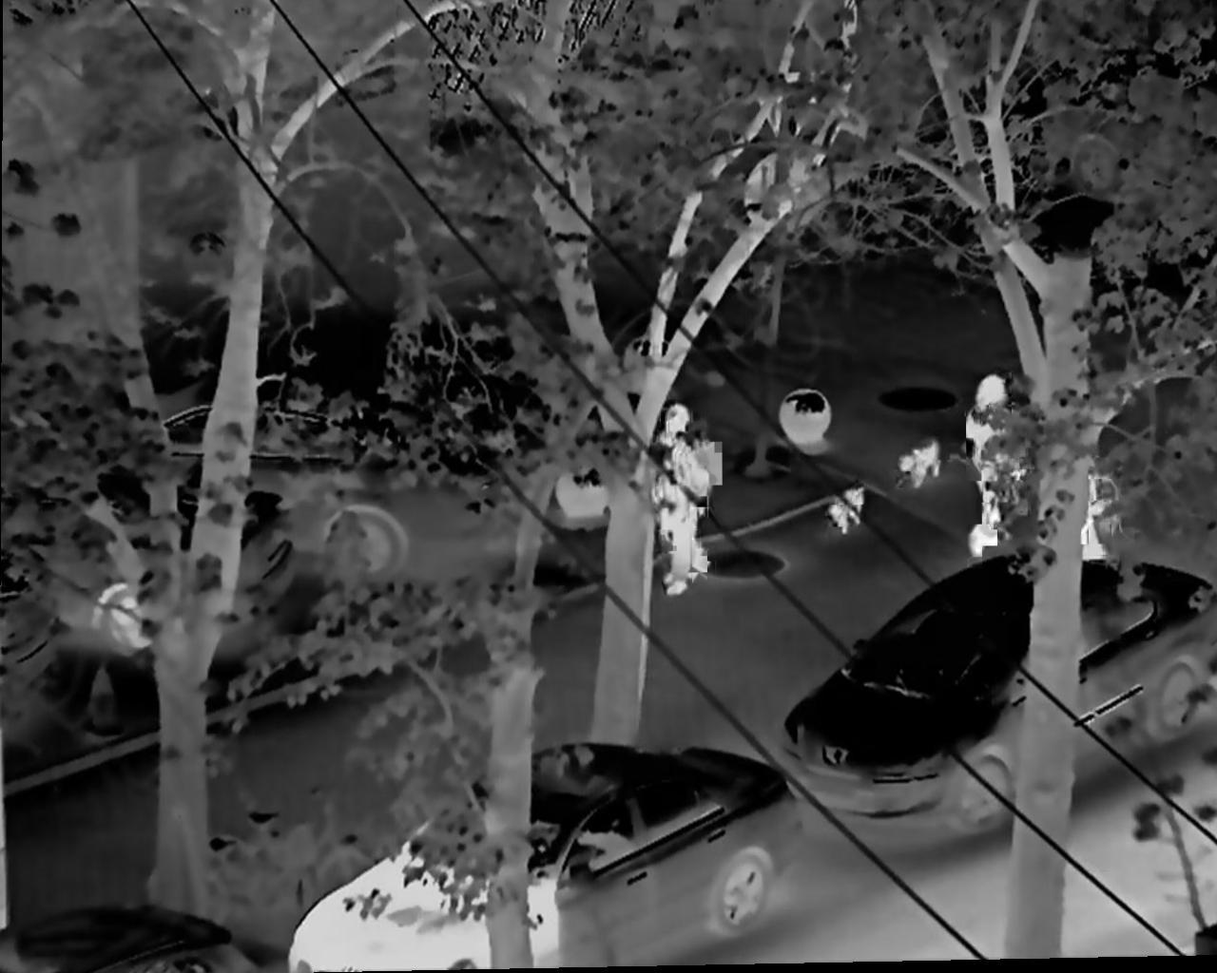person: (651, 404, 722, 595), (958, 367, 1017, 565)
